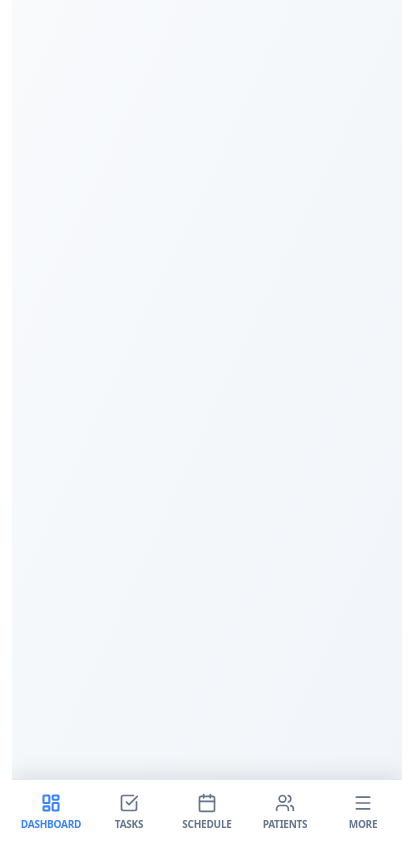
Scenario: CareConnectNavigation › Mobile Interactions › closes the mobile menu after navigating
Open mobile menu
Click the button "More": point(363, 812) [324,780,402,843]
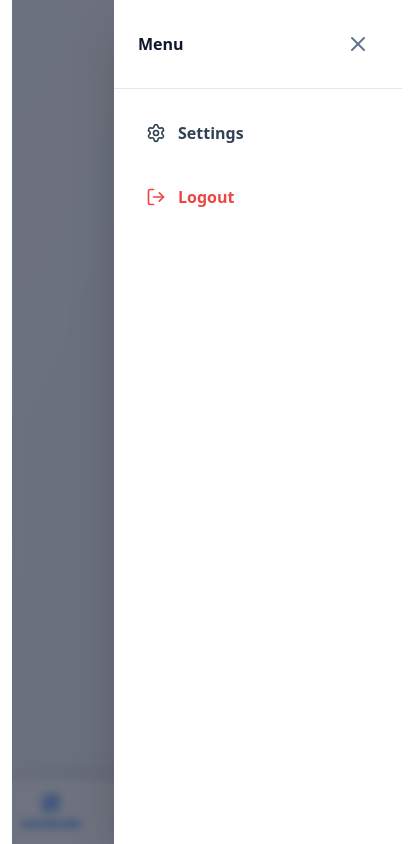
Click the 'Settings' button inside the mobile menu (usually the last one in the DOM)
Click the button "Settings": point(258, 133) [130,105,386,161]
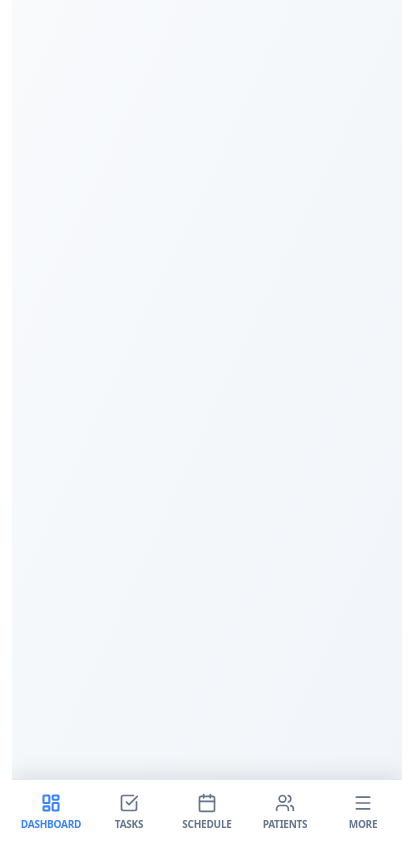
Expected: the heading "Menu" is gone
